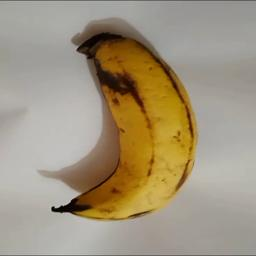Banana Semifresh: (40, 31, 201, 223)
